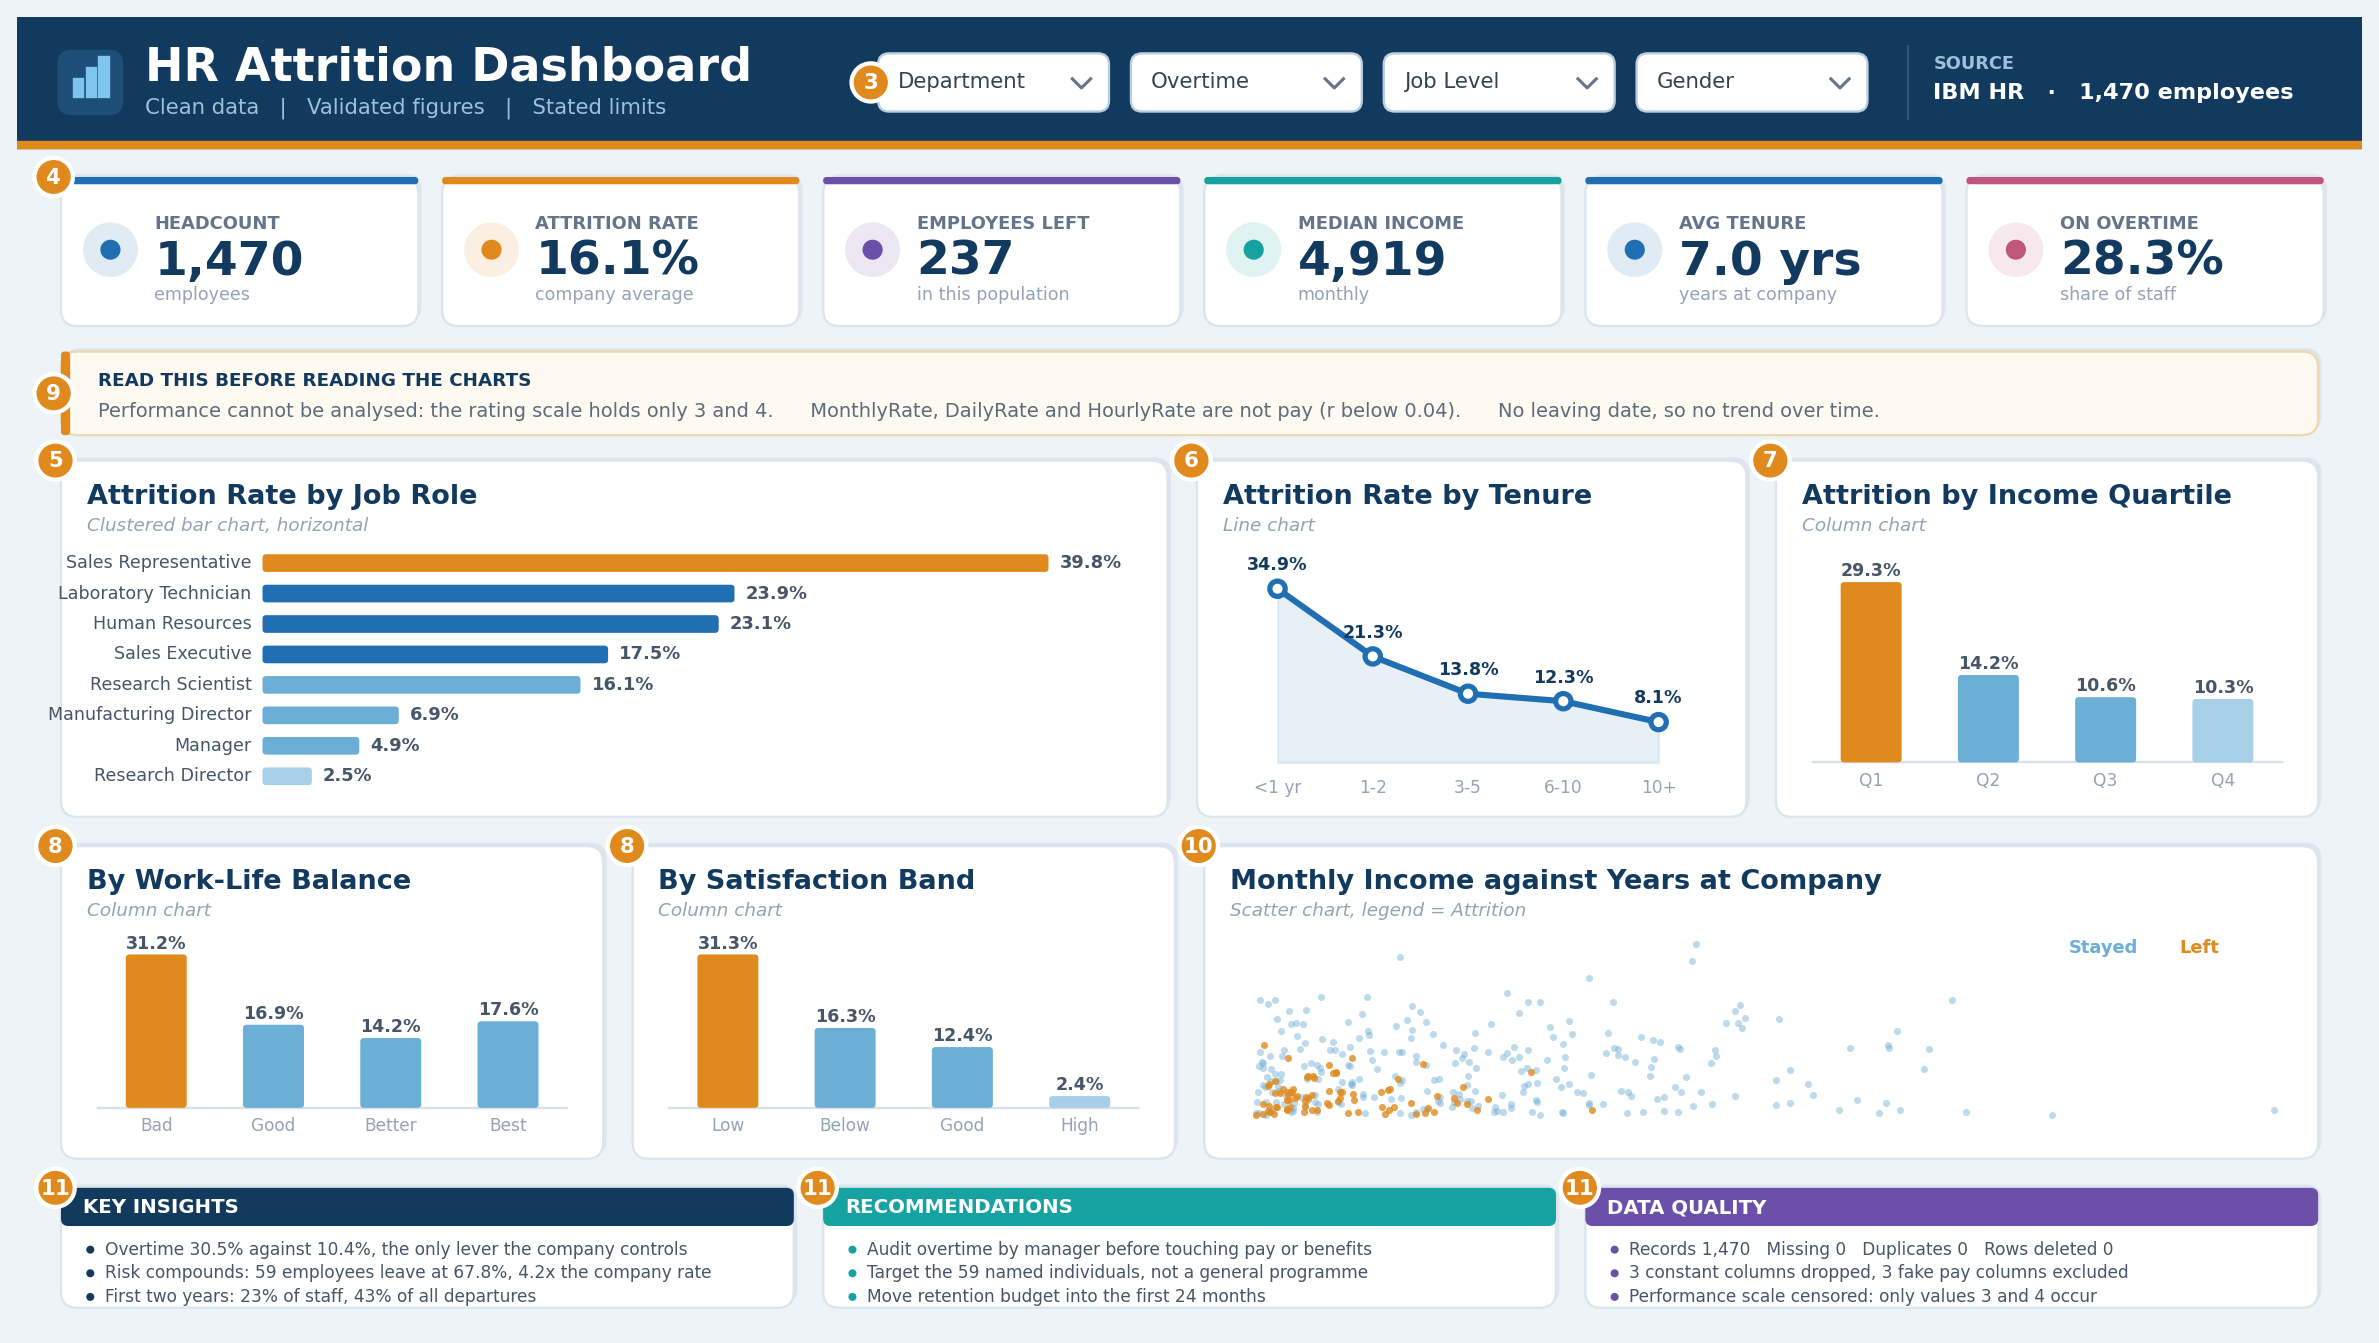

What the dashboard file says about the page in this screenshot:
{"tool":"powerbi","page":{"name":"Page 1","canvas":[1280,780],"ordinal":0},"visuals":[{"type":"shape","box":[0,0,1279.5,72.7],"z":0},{"type":"slicer","fields":{"Values":["PowerBI_import.Department"]},"box":[470,39,126,32],"z":1000},{"type":"slicer","fields":{"Values":["PowerBI_import.OverTime"]},"box":[708.8,35.7,122.5,37.2],"z":2000},{"type":"slicer","fields":{"Values":["PowerBI_import.Gender"]},"box":[943,40,126,32],"z":3000},{"type":"slicer","fields":{"Values":["PowerBI_import.Gender"]},"box":[861,76,144.7,51.8],"z":4000},{"type":"cardVisual","title":"Headcount","fields":{"Data":["Measures (2).Headcount"]},"box":[23,135,121,77],"z":5000},{"type":"cardVisual","title":"Attrition Rate","fields":{"Data":["Measures (2).Attrition Rate"]},"box":[193,135,120,77],"z":6000},{"type":"cardVisual","title":"Employees Left","fields":{"Data":["Measures (2).Employees Left"]},"box":[368,132,117,80],"z":7000},{"type":"cardVisual","title":"Median Income","fields":{"Data":["Measures (2).Median Income"]},"box":[558,132,114,80],"z":8000},{"type":"cardVisual","title":"Avg Tenure","fields":{"Data":["Measures (2).Avg Tenure"]},"box":[768,131,130,81],"z":9000},{"type":"cardVisual","title":"On Overtime","fields":{"Data":["Measures (2).Overtime Share"]},"box":[1029,132,127,80],"z":10000},{"type":"shape","box":[23,125,121,12],"z":11000},{"type":"shape","box":[193,126,120,11],"z":12000},{"type":"shape","box":[368,124,120,13],"z":13000},{"type":"shape","box":[558,119,114,12],"z":14000},{"type":"shape","box":[768,119,131.8,12.4],"z":15000},{"type":"shape","box":[1029,123,127,12],"z":16000},{"type":"clusteredBarChart","title":"Attrition Rate by Job Role","fields":{"Category":["PowerBI_import.JobRole"],"Y":["Measures (2).Attrition Rate"]},"box":[0,222,496,272],"z":17000},{"type":"lineChart","fields":{"Category":["PowerBI_import.tenure_band"],"Y":["Measures (2).Attrition Rate"]},"box":[496.3,226.4,373.8,266.8],"z":18000},{"type":"clusteredColumnChart","fields":{"Category":["PowerBI_import.income_quartile"],"Y":["Measures (2).Attrition Rate"]},"box":[871,233,397,263.7],"z":19000},{"type":"clusteredColumnChart","fields":{"Category":["PowerBI_import.WorkLifeBalance_label"],"Y":["Measures (2).Attrition Rate"]},"box":[14,496.3,358.3,152],"z":20000},{"type":"clusteredColumnChart","fields":{"Category":["PowerBI_import.satisfaction_band"],"Y":["Measures (2).Attrition Rate"]},"box":[408.8,497.8,392.4,165.9],"z":21000},{"type":"textbox","box":[6,74,1250.7,54.5],"z":22000},{"type":"shape","box":[6,78,7.8,48.1],"z":23000},{"type":"scatterChart","title":"Monthly Income vs Years at Company","fields":{"Series":["PowerBI_import.Attrition"],"X":["PowerBI_import.YearsAtCompany"],"Y":["PowerBI_import.MonthlyIncome"]},"box":[816.3,477.8,463.2,193.8],"z":24000},{"type":"textbox","box":[23.9,678.3,367.6,102.4],"z":25000},{"type":"shape","box":[23.9,663.7,367.7,14.6],"z":26000},{"type":"textbox","box":[423.4,683.6,362.4,96.9],"z":27000},{"type":"shape","box":[423.4,670.3,362.2,12.6],"z":28000},{"type":"textbox","box":[820.3,690.2,448.6,86.3],"z":29000},{"type":"shape","box":[821,676,448.1,14.7],"z":30000},{"type":"image","box":[0,11,84.8,51.5],"z":31000},{"type":"textbox","box":[92.4,0,230.2,10.6],"z":32000},{"type":"textbox","box":[81.8,0,402.8,83.3],"z":33000},{"type":"textbox","box":[99,42,280.1,40.9],"z":34000},{"type":"textbox","box":[1071,0,169,70],"z":35000},{"type":"textbox","box":[709,11,125,28],"z":37001},{"type":"textbox","box":[943,7,128,35],"z":37003},{"type":"textbox","box":[470,11,126,28],"z":37004}]}

Visuals, with their boxes on the page's 1280x780 design canvas (x1, y1, x2, y2). These are canvas units, not pixel positions in the 2379x1343 screenshot, which may show the page scaled, cropped or inside an application window:
shape: locate(0, 0, 1280, 73)
slicer - PowerBI_import.Department: locate(470, 39, 596, 71)
slicer - PowerBI_import.OverTime: locate(709, 36, 831, 73)
slicer - PowerBI_import.Gender: locate(943, 40, 1069, 72)
slicer - PowerBI_import.Gender: locate(861, 76, 1006, 128)
"Headcount" cardVisual: locate(23, 135, 144, 212)
"Attrition Rate" cardVisual: locate(193, 135, 313, 212)
"Employees Left" cardVisual: locate(368, 132, 485, 212)
"Median Income" cardVisual: locate(558, 132, 672, 212)
"Avg Tenure" cardVisual: locate(768, 131, 898, 212)
"On Overtime" cardVisual: locate(1029, 132, 1156, 212)
shape: locate(23, 125, 144, 137)
shape: locate(193, 126, 313, 137)
shape: locate(368, 124, 488, 137)
shape: locate(558, 119, 672, 131)
shape: locate(768, 119, 900, 131)
shape: locate(1029, 123, 1156, 135)
"Attrition Rate by Job Role" clusteredBarChart: locate(0, 222, 496, 494)
lineChart - PowerBI_import.tenure_band x Measures (2).Attrition Rate: locate(496, 226, 870, 493)
clusteredColumnChart - PowerBI_import.income_quartile x Measures (2).Attrition Rate: locate(871, 233, 1268, 497)
clusteredColumnChart - PowerBI_import.WorkLifeBalance_label x Measures (2).Attrition Rate: locate(14, 496, 372, 648)
clusteredColumnChart - PowerBI_import.satisfaction_band x Measures (2).Attrition Rate: locate(409, 498, 801, 664)
textbox: locate(6, 74, 1257, 128)
shape: locate(6, 78, 14, 126)
"Monthly Income vs Years at Company" scatterChart: locate(816, 478, 1280, 672)
textbox: locate(24, 678, 392, 781)
shape: locate(24, 664, 392, 678)
textbox: locate(423, 684, 786, 780)
shape: locate(423, 670, 786, 683)
textbox: locate(820, 690, 1269, 776)
shape: locate(821, 676, 1269, 691)
image: locate(0, 11, 85, 62)
textbox: locate(92, 0, 323, 11)
textbox: locate(82, 0, 485, 83)
textbox: locate(99, 42, 379, 83)
textbox: locate(1071, 0, 1240, 70)
textbox: locate(709, 11, 834, 39)
textbox: locate(943, 7, 1071, 42)
textbox: locate(470, 11, 596, 39)
